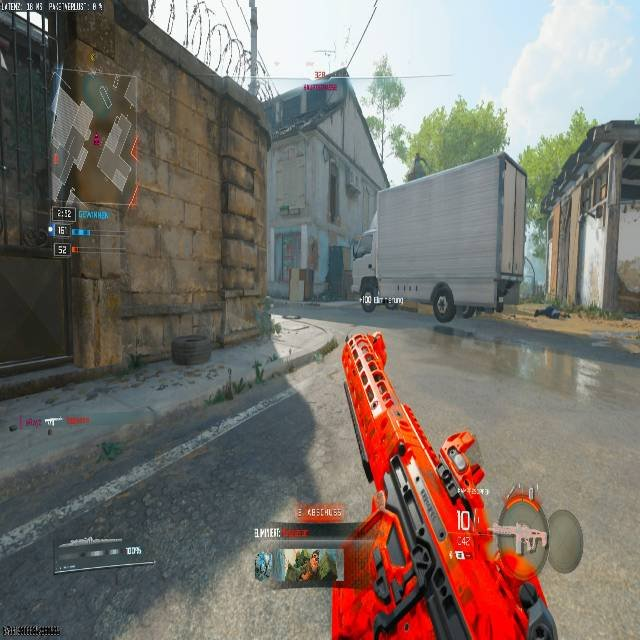player: (356, 256, 380, 311)
